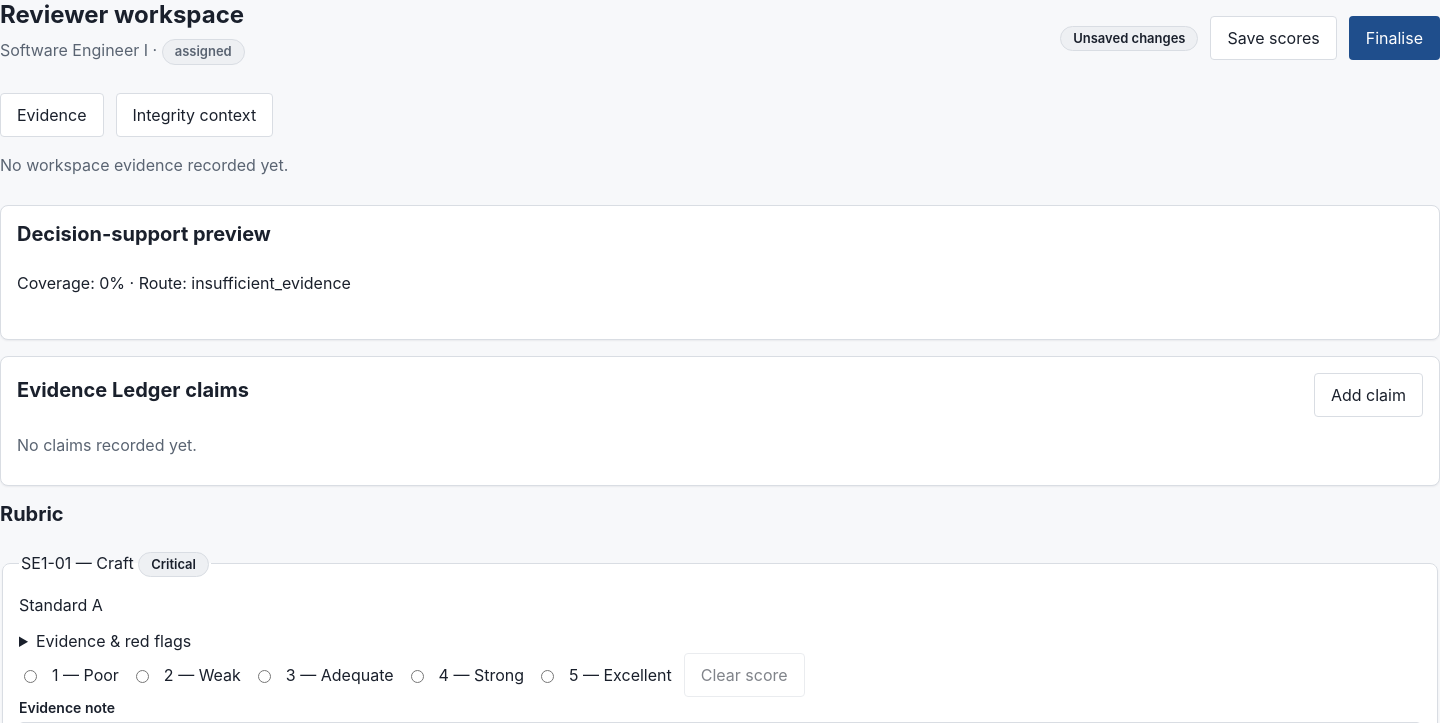
it: ReviewWorkspacePage › keeps Finalise disabled until rationale/confidence/limitations are all valid
Expected: the text "SE1-01" is shown, [21, 552, 71, 572]
Click the button "Finalise": (1394, 38) [1349, 16, 1439, 60]
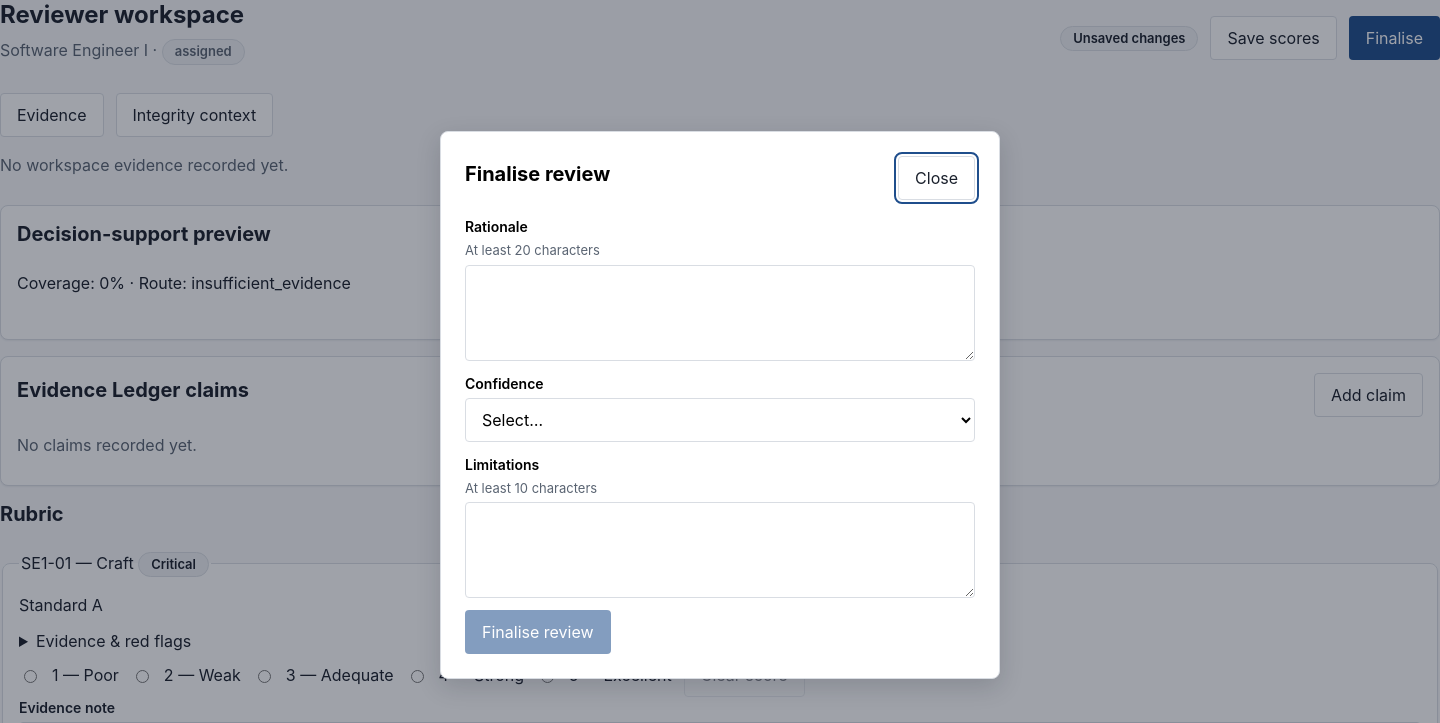
Now the button "Finalise review" is disabled, box [465, 610, 611, 654]
In the text box labelled "Rationale": (720, 312) [465, 264, 975, 360], type "This rationale is at least twenty characters long."
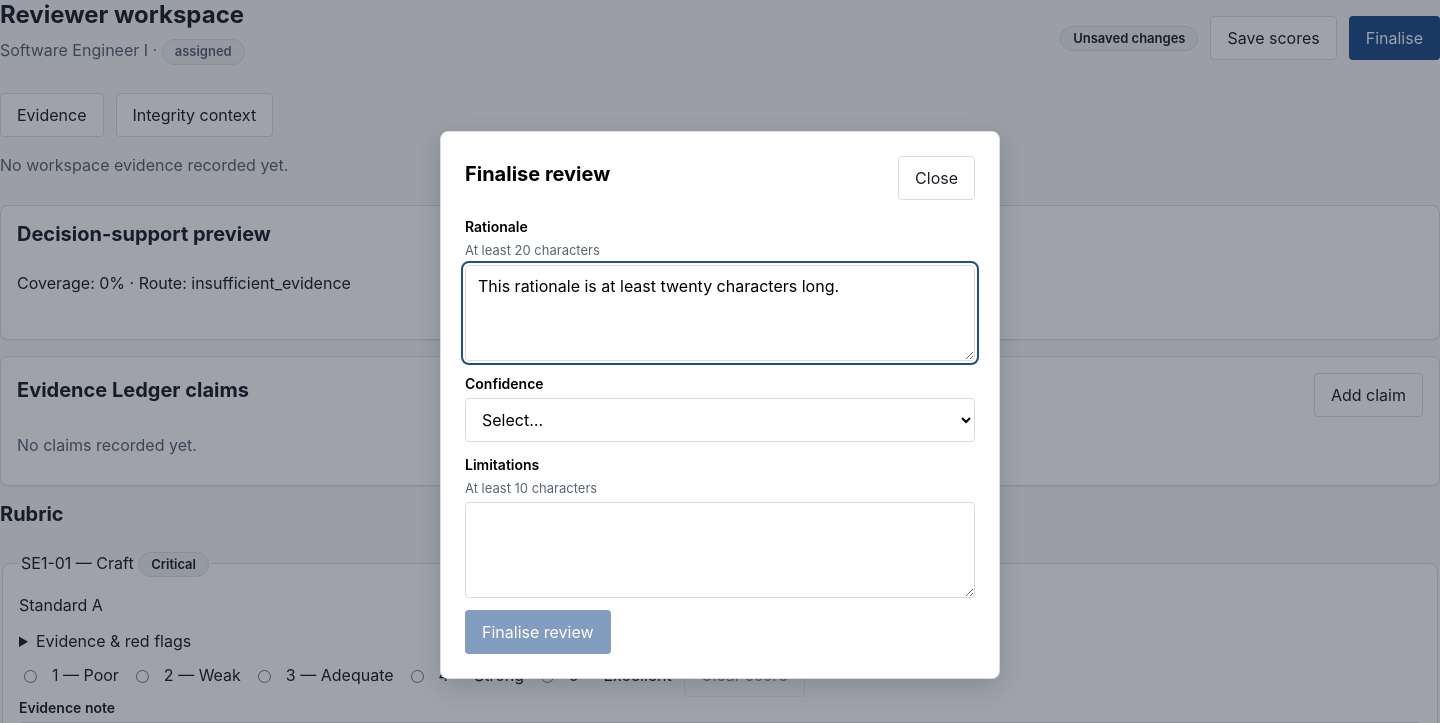
Select "high" in the dropdown labelled "Confidence": (720, 420) [465, 398, 975, 442]
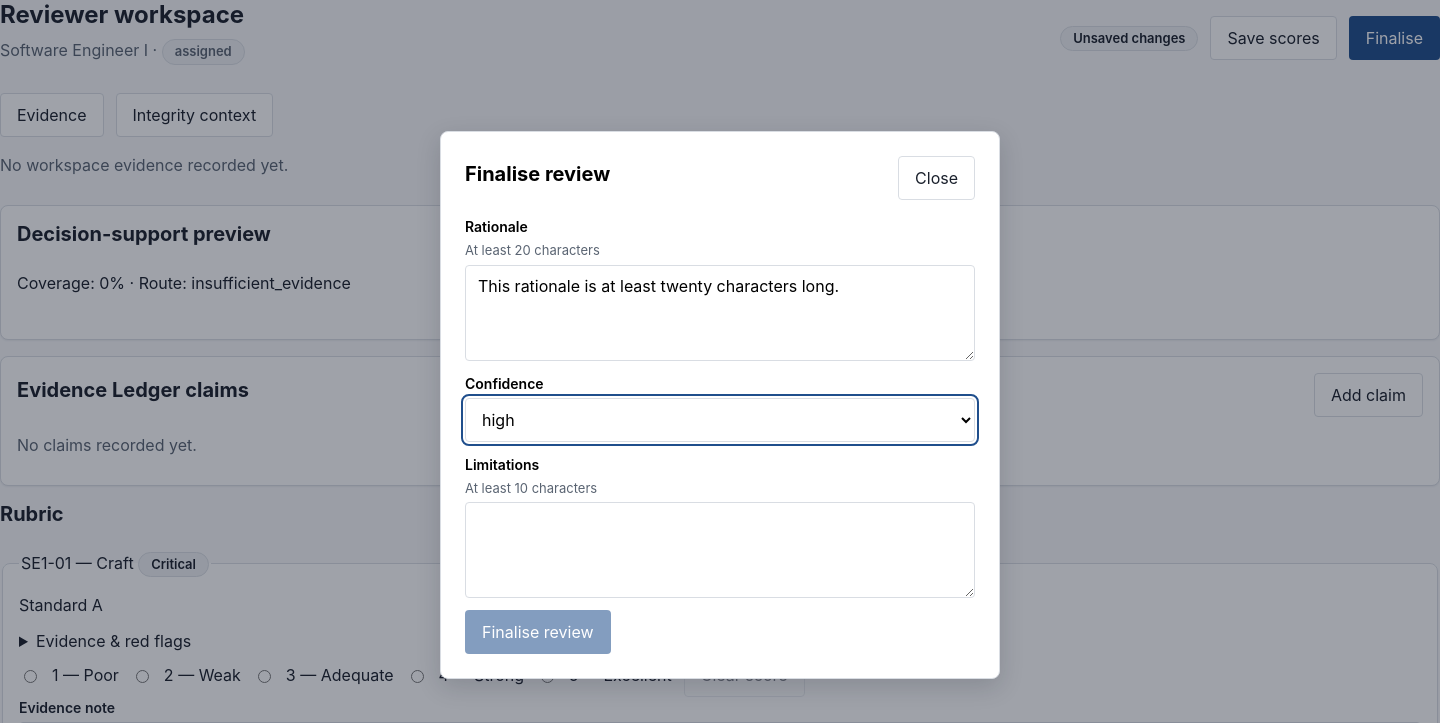
In the text box labelled "Limitations": (720, 550) [465, 502, 975, 598], type "Some limitations noted."
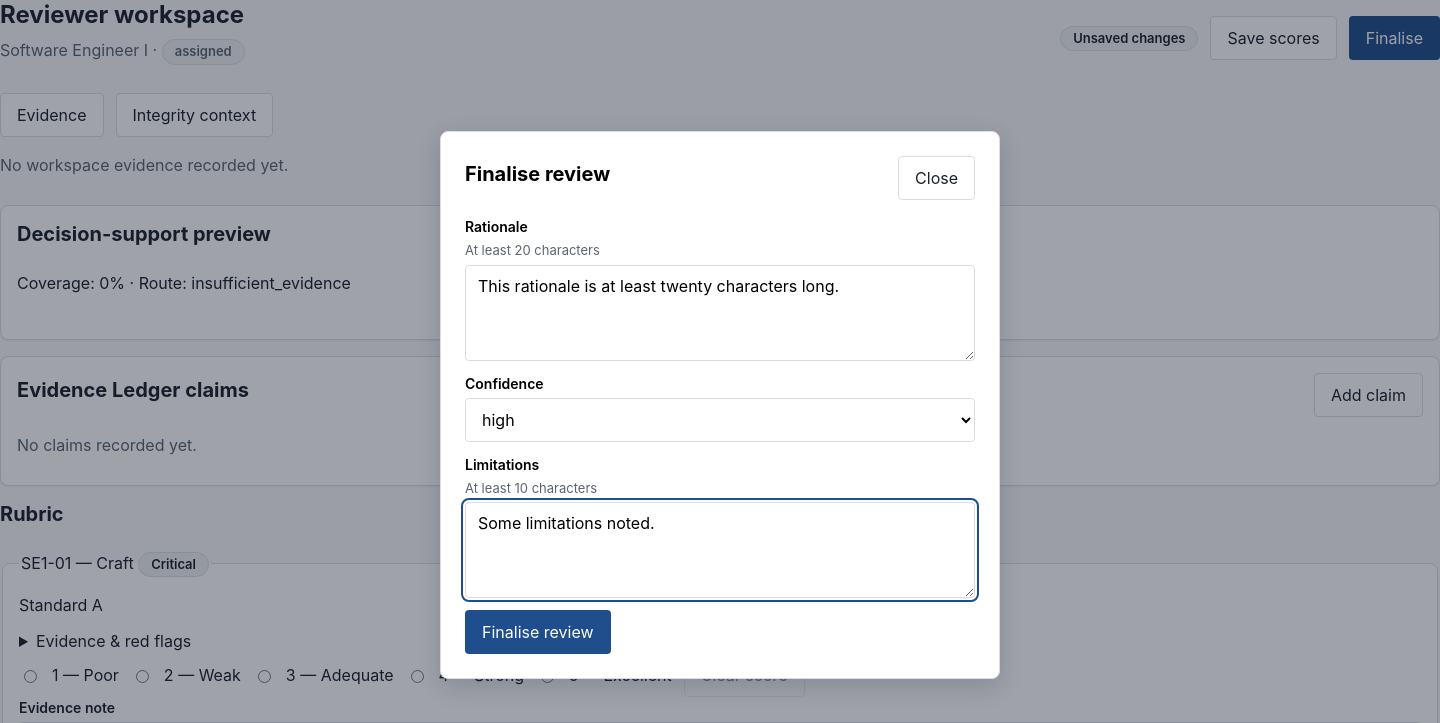
Now the button "Finalise review" is enabled, box [465, 610, 611, 654]
